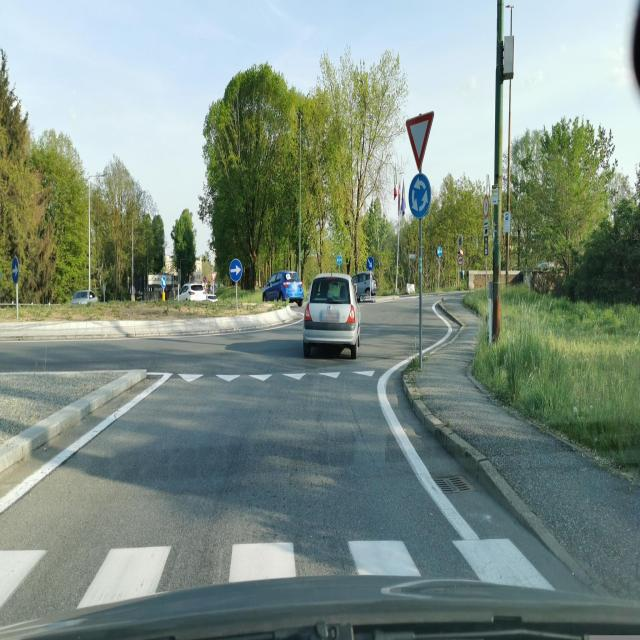car: (302, 273, 361, 358), (262, 269, 303, 303), (352, 270, 377, 298), (177, 281, 207, 301), (70, 288, 100, 306), (406, 282, 416, 294)
